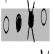correct: (15, 11, 22, 34)
not correct: (27, 0, 35, 44)
